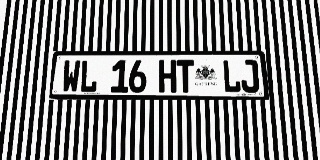1: (111, 60, 129, 93)
6: (129, 60, 146, 93)
H: (159, 60, 176, 93)
J: (240, 60, 259, 93)
L: (79, 60, 98, 93), (222, 60, 241, 93)
T: (177, 60, 195, 93)
W: (61, 60, 81, 93)
